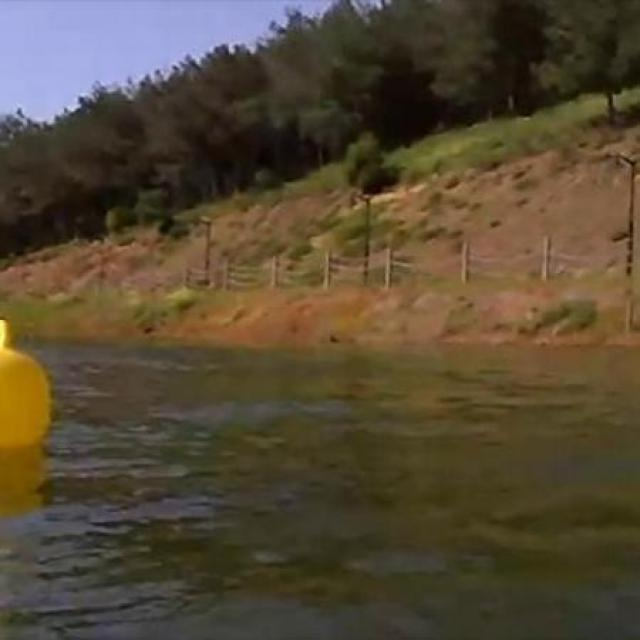buoy: (0, 324, 58, 445)
